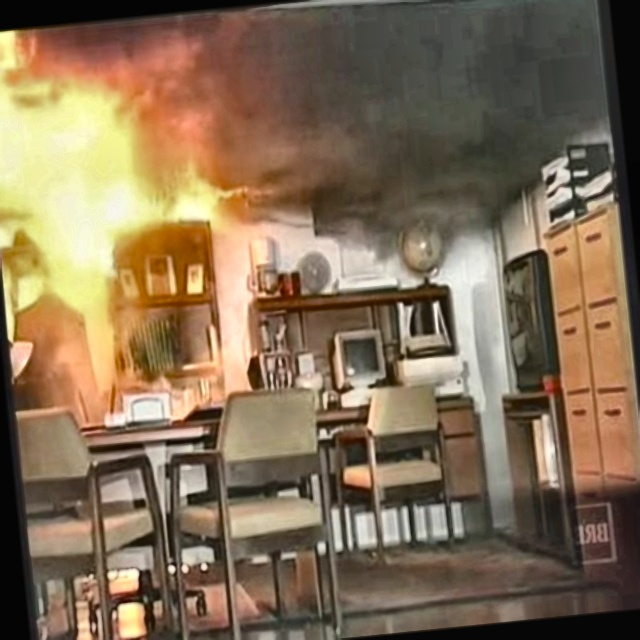fire: (0, 17, 208, 225)
smoke: (227, 0, 617, 228)
